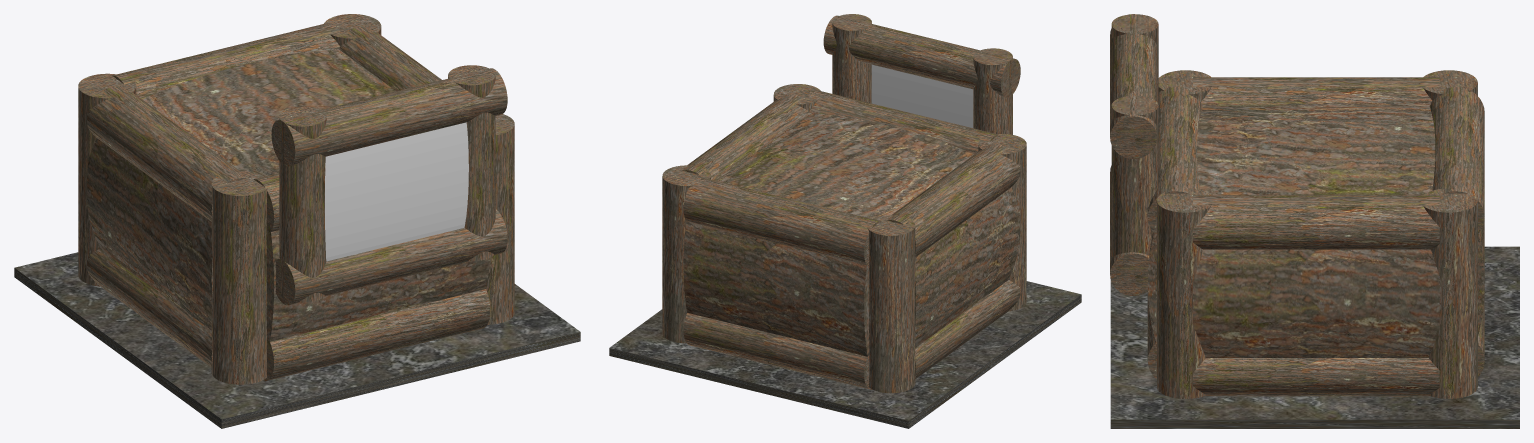
Rendered from fallback.glb.
The picture shows the model from 3 angles, left to right: view 1: azimuth 30°, elevation 25°; view 2: azimuth 150°, elevation 25°; view 3: azimuth 270°, elevation 25°; orthographic projection. The views are drawn at different scales.
Parts seen in each view (by area): view 1: Cube, Cylinder.021, Cylinder.016, Cylinder.015, Cylinder.005, Cylinder.020, Cylinder.011, Cylinder.001, Cylinder.013, Cylinder.017, Cylinder.019, Cylinder.008 (+7 smaller); view 2: Cylinder.012, Cube, Cylinder.016, Cylinder.015, Cylinder.008, Cylinder.007, Cylinder.020, Cylinder.011, Cylinder, Cylinder.006, Cylinder.021, Cylinder.010 (+6 smaller); view 3: Cylinder.014, Cube, Cylinder.016, Cylinder.010, Cylinder.002, Cylinder.006, Cylinder.004, Cylinder.011, Cylinder.008, Cylinder.018, Cylinder.020, Cylinder.009 (+8 smaller).
Boxes of the visible parts, x1,y1,x2,y2 form: Cube: (14,252,580,428); Cylinder.021: (325,122,468,261); Cylinder.016: (143,49,395,176); Cylinder.015: (86,138,212,330); Cylinder.005: (211,171,267,384); Cylinder.020: (271,68,507,166); Cylinder.011: (86,86,246,221); Cylinder.001: (263,289,490,381); Cylinder.013: (267,211,489,349); Cylinder.017: (275,209,507,305); Cylinder.019: (279,106,326,302); Cylinder.008: (112,22,340,99); Cylinder.012: (683,221,869,361); Cube: (609,281,1081,428); Cylinder.016: (717,113,973,218); Cylinder.015: (915,187,1020,347); Cylinder.008: (683,177,880,267); Cylinder.007: (867,215,915,393); Cylinder.020: (823,15,1020,97); Cylinder.011: (886,143,1020,257); Cylinder: (683,313,871,389); Cylinder.006: (662,165,710,343); Cylinder.021: (871,64,973,127); Cylinder.010: (682,94,809,180); Cylinder.014: (1193,249,1439,357); Cube: (1110,246,1519,428); Cylinder.016: (1197,106,1435,195); Cylinder.010: (1193,195,1439,249); Cylinder.002: (1193,358,1439,396); Cylinder.006: (1423,188,1477,398); Cylinder.004: (1157,188,1211,398); Cylinder.011: (1193,77,1439,106); Cylinder.008: (1429,87,1484,233); Cylinder.018: (1111,95,1158,256); Cylinder.020: (1110,14,1156,158); Cylinder.009: (1147,87,1202,235).
Size of the model in its own units: 3.8 by 2.84 by 3.8.
Materials: 3 (2 with a texture image).
